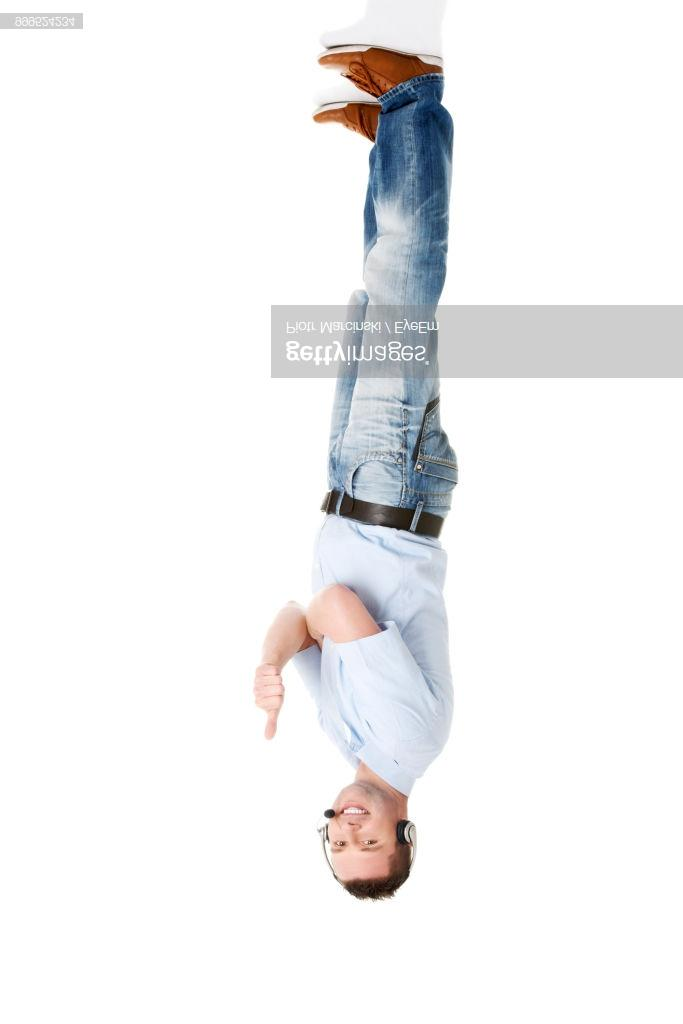thumbsdown: (253, 663, 284, 740)
